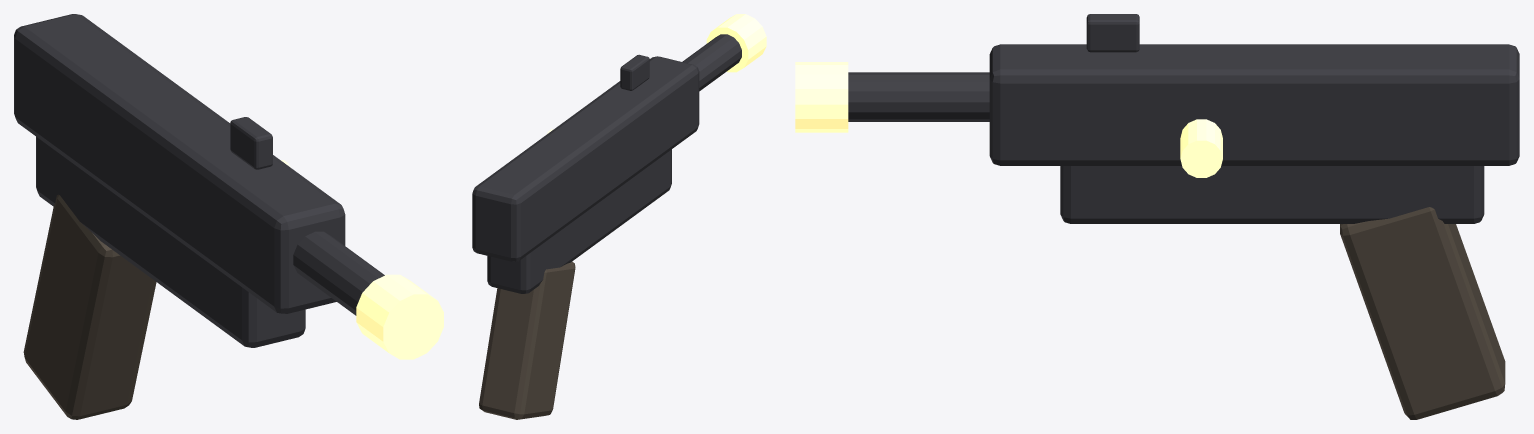
The model's file is pistol.glb.
3 views of the same model, side by side, from view 1: azimuth 30°, elevation 25°; view 2: azimuth 150°, elevation 25°; view 3: azimuth 270°, elevation 25° (orthographic). The views are drawn at different scales.
Visible parts, largest first — view 1: slide, grip, frame, muzzle, barrel, sight; view 2: slide, grip, frame, barrel, muzzle, sight; view 3: slide, frame, grip, barrel, muzzle, cell, sight.
Boxes of the visible parts, box(x1,y1,x2,y2) form: slide: box(14, 14, 345, 313); grip: box(23, 194, 156, 419); frame: box(36, 136, 305, 347); muzzle: box(356, 274, 443, 359); barrel: box(293, 231, 384, 315); sight: box(230, 117, 272, 169); slide: box(472, 56, 699, 261); grip: box(479, 261, 575, 419); frame: box(487, 149, 671, 293); barrel: box(682, 34, 741, 91); muzzle: box(706, 14, 766, 72); sight: box(620, 54, 649, 90); slide: box(989, 44, 1519, 165); frame: box(1060, 166, 1484, 223); grip: box(1340, 207, 1505, 419); barrel: box(848, 72, 989, 121); muzzle: box(795, 62, 848, 132); cell: box(1180, 119, 1222, 177); sight: box(1086, 14, 1139, 52).
Size of the model in its own units: 0.0735 by 0.2442 by 0.41.
